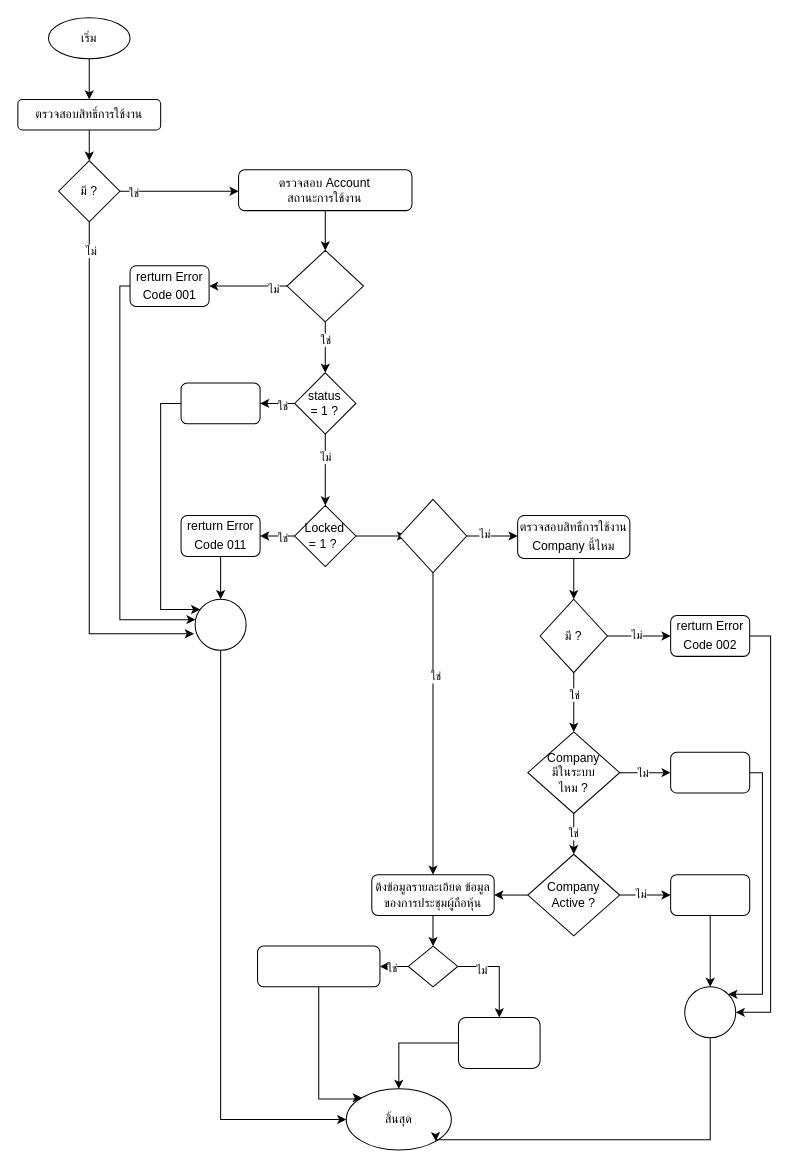
This 797x1168 diagram has some shape labels left out. Here are the shapes that lost their labels. From the top down, the box of each, then its label:
(286, 249, 364, 322): มีใน ระบบ ?
(180, 382, 260, 424): rerturn Error Code 004
(398, 498, 467, 573): Super Admin ?
(670, 751, 750, 793): rerturn Error Code 007
(670, 874, 750, 915): rerturn Error Code 051
(257, 945, 380, 987): ส่งกลับข้อมูลรายละเอียด ข้อมูลของการประชุมผู้ถือหุ้น
(407, 945, 458, 987): มี?
(457, 1016, 540, 1068): return Error code 097
